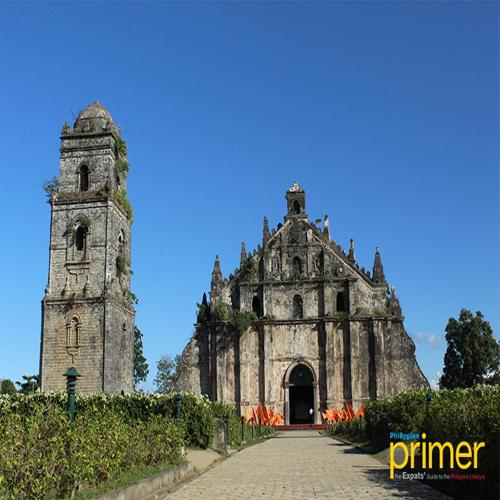Paoay Church: (25, 88, 441, 429)
